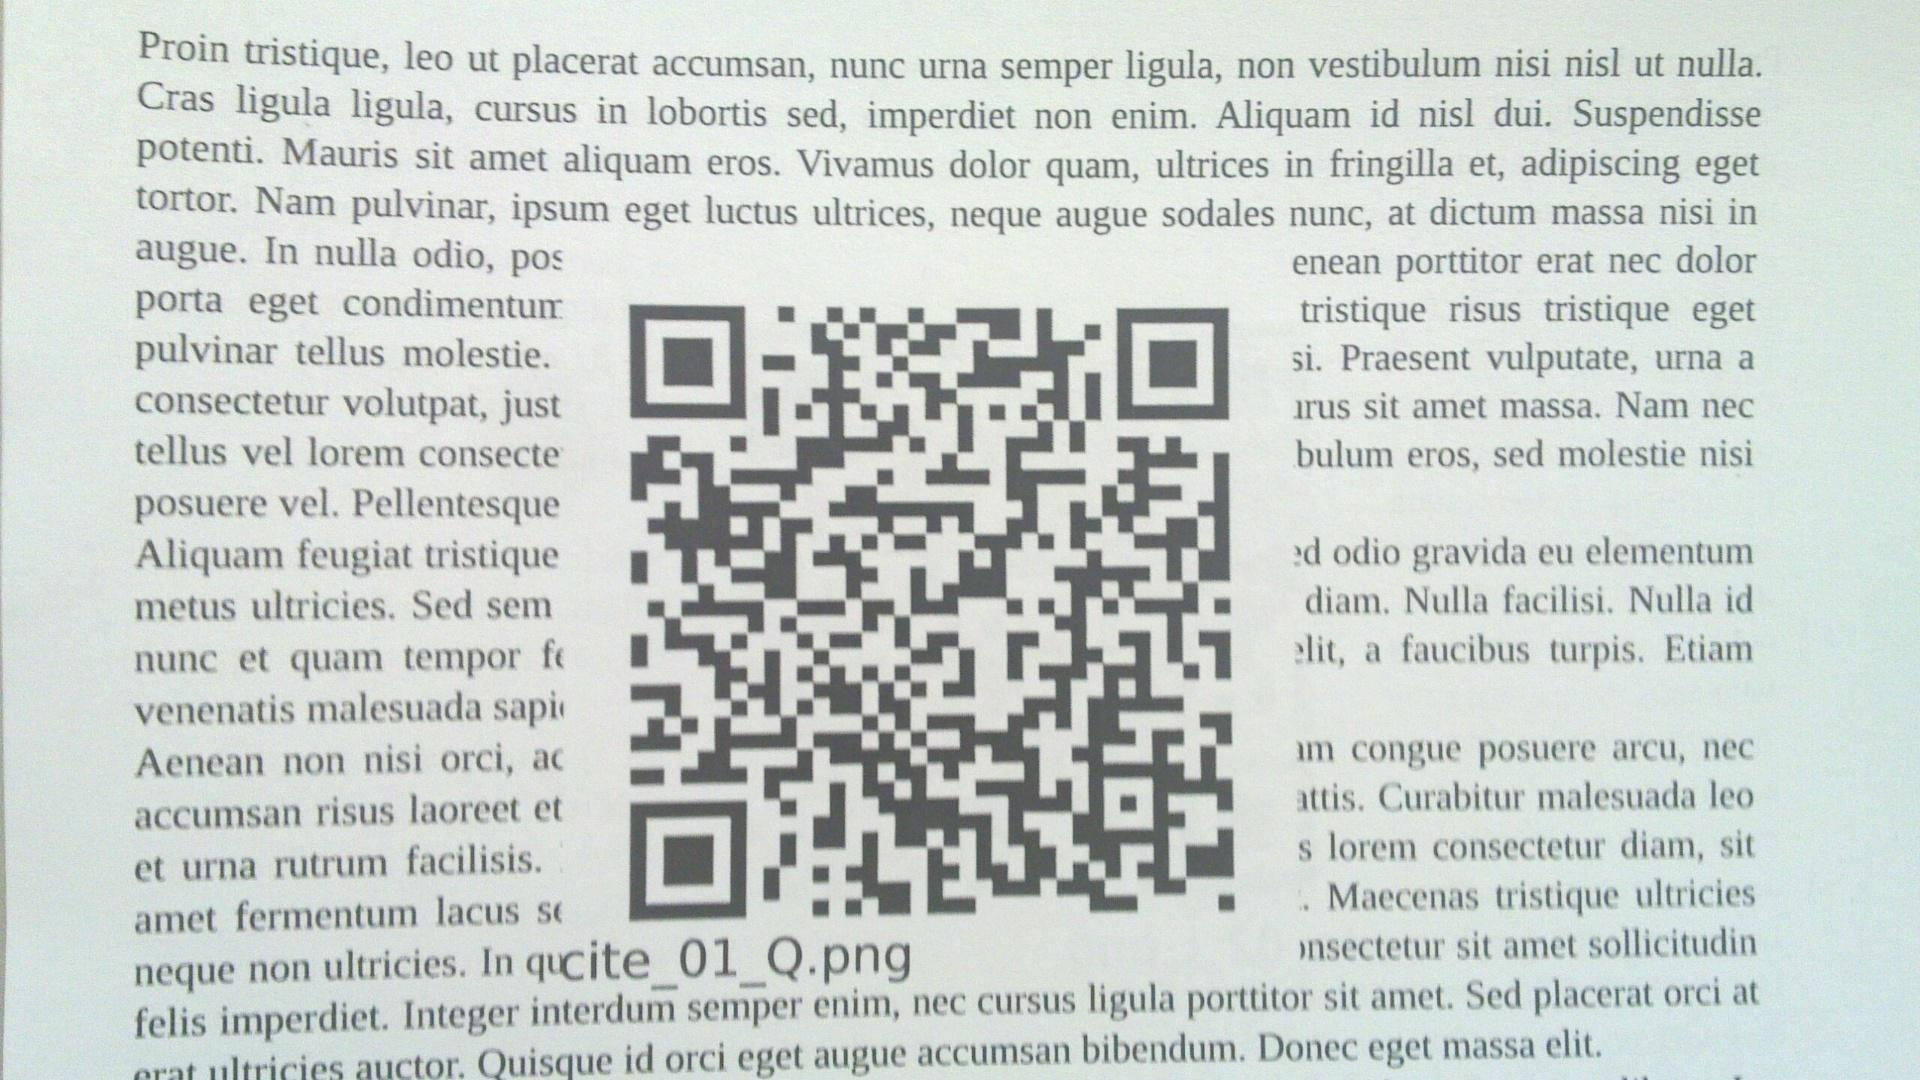Finder pattern: (626, 298, 752, 422), (628, 795, 752, 920), (1112, 302, 1234, 425)
